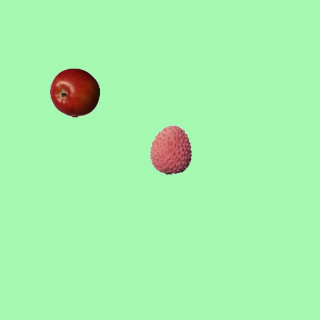Apple Braeburn: (49, 67, 99, 117)
Lychee: (145, 124, 195, 174)
